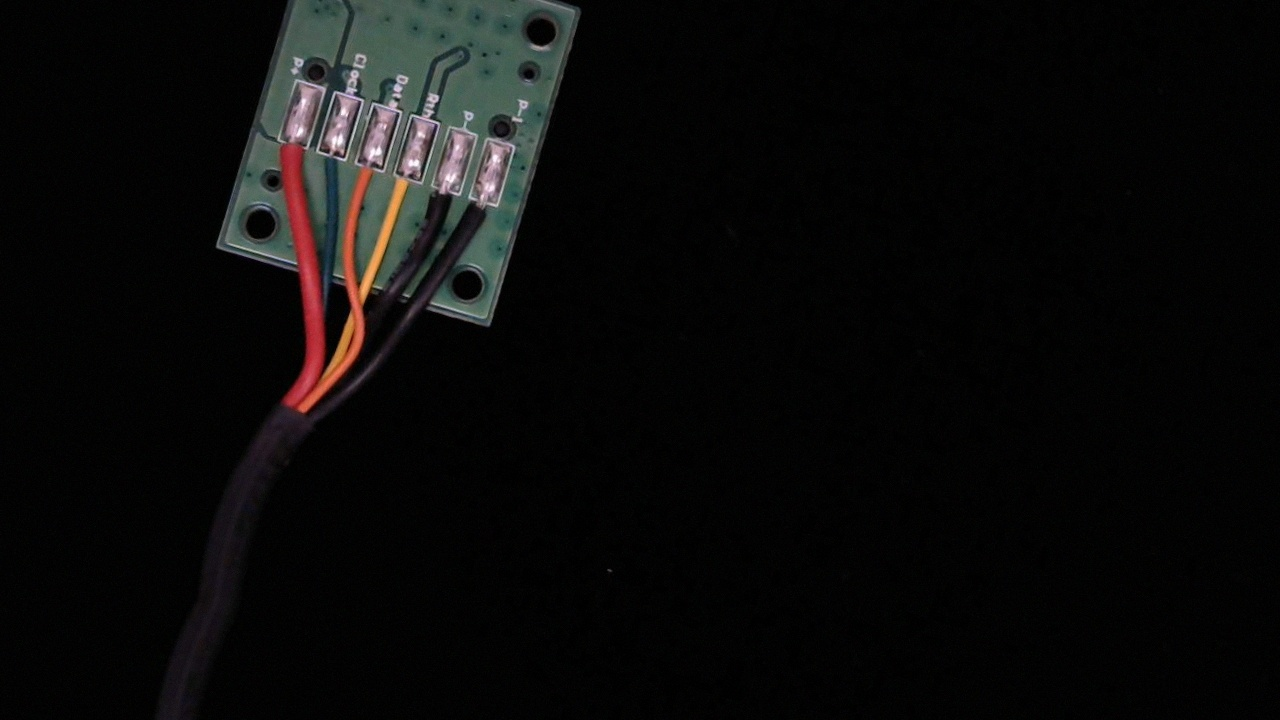Black: (415, 171, 462, 241)
Black1: (451, 184, 503, 258)
Green: (304, 136, 353, 201)
Orange: (340, 148, 388, 213)
Red: (262, 127, 310, 196)
Yellow: (377, 158, 429, 230)
